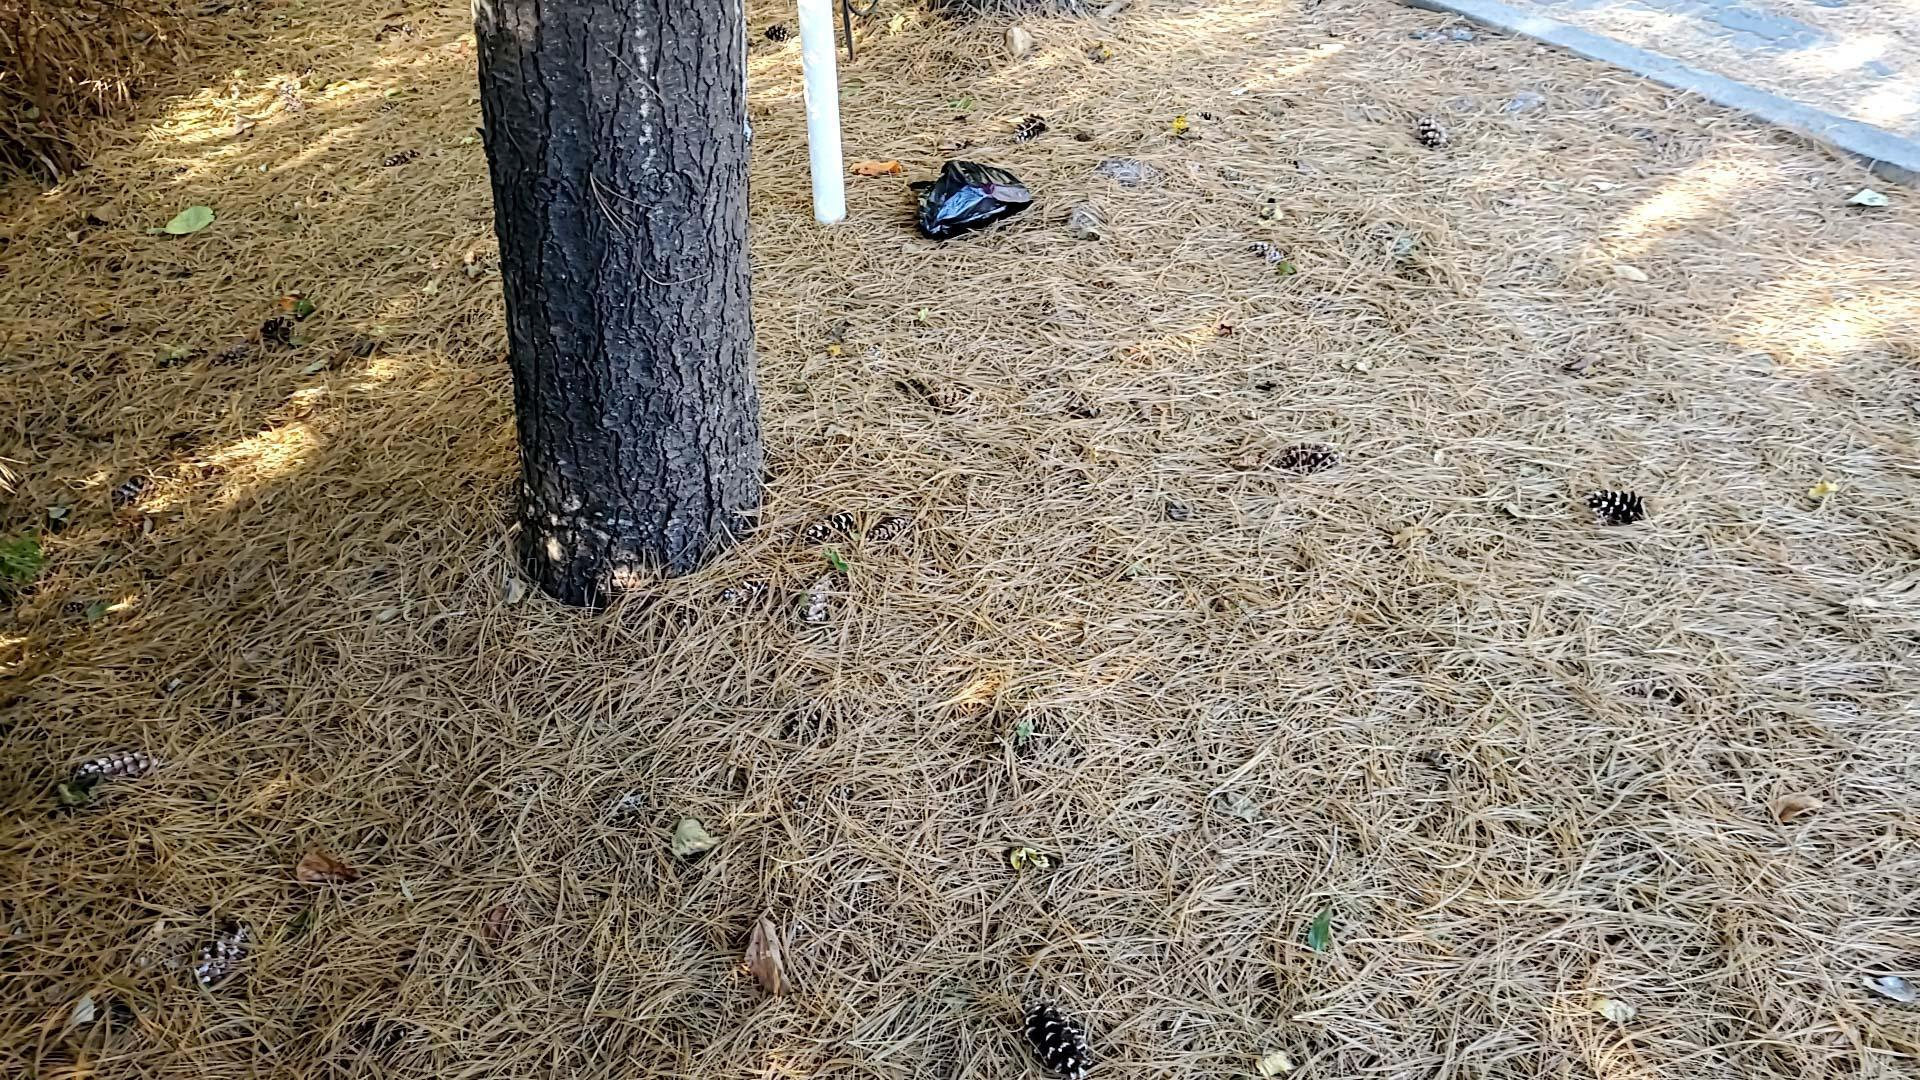black_bag: (903, 156, 1036, 243)
